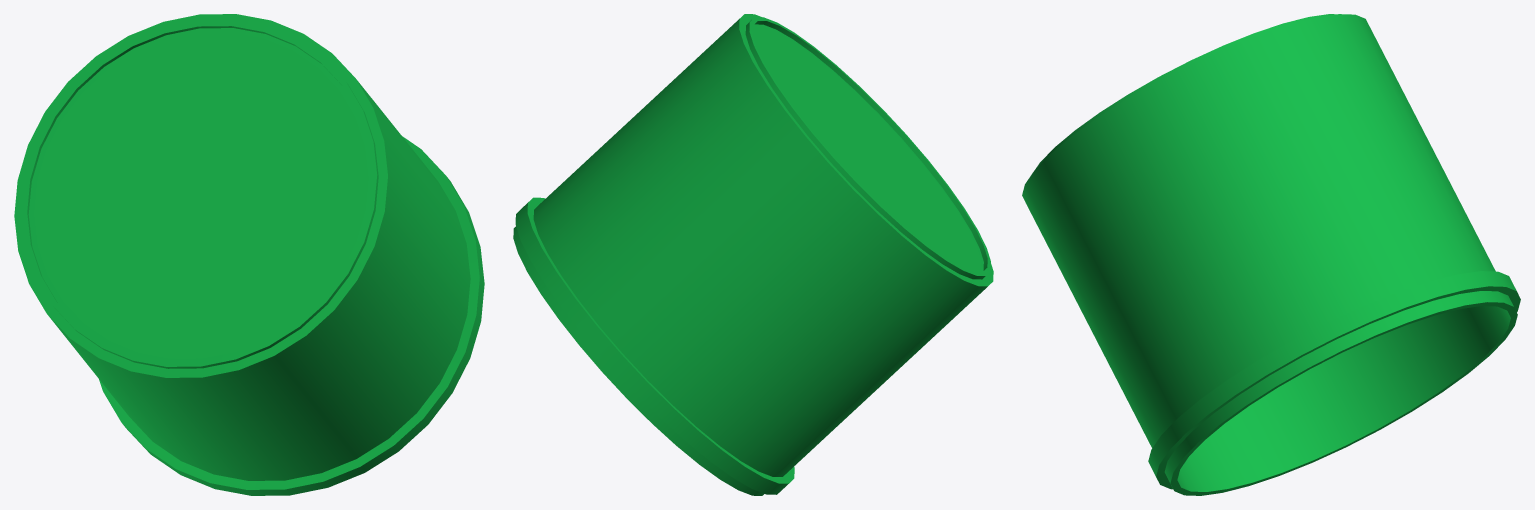
3 renders of one model, left to right at view 1: azimuth 30°, elevation 25°; view 2: azimuth 150°, elevation 25°; view 3: azimuth 270°, elevation 25°, orthographic. The views are drawn at different scales.
Parts seen in each view (by area): view 1: Stacking Cup 6; view 2: Stacking Cup 6; view 3: Stacking Cup 6.
Part boxes in pixels (x1,y1,x2,y2): Stacking Cup 6: (14,14,484,495); Stacking Cup 6: (513,14,993,495); Stacking Cup 6: (1022,14,1520,495).
Size of the model in its own units: 0.5014 by 0.502 by 0.4913.
